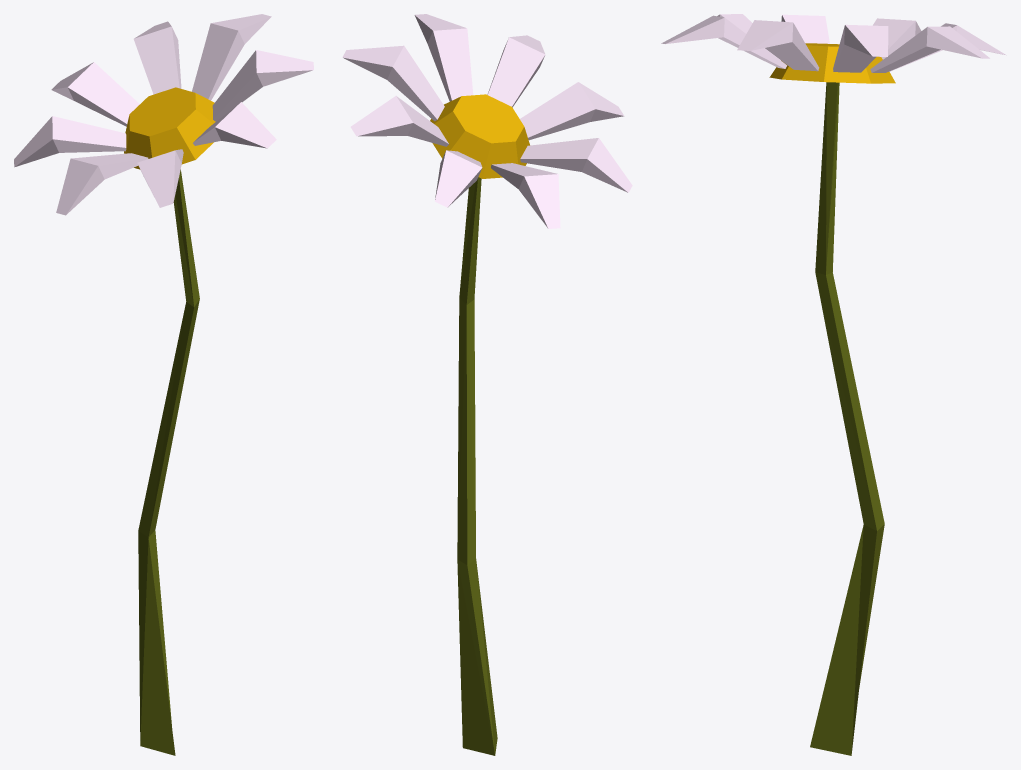
Rendered from Flower 4_2.fbx.
3 renders of one model, left to right at view 1: azimuth 30°, elevation 25°; view 2: azimuth 150°, elevation 25°; view 3: azimuth 270°, elevation 25°, orthographic. The views are drawn at different scales.
Parts seen in each view (by area): view 1: Flower 4_2; view 2: Flower 4_2; view 3: Flower 4_2.
Part boxes in pixels (<box>): Flower 4_2: <box>14,14,313,755</box>; Flower 4_2: <box>342,14,632,755</box>; Flower 4_2: <box>661,14,1006,755</box>.
Size of the model in its own units: 0.1241 by 0.3283 by 0.1345.
